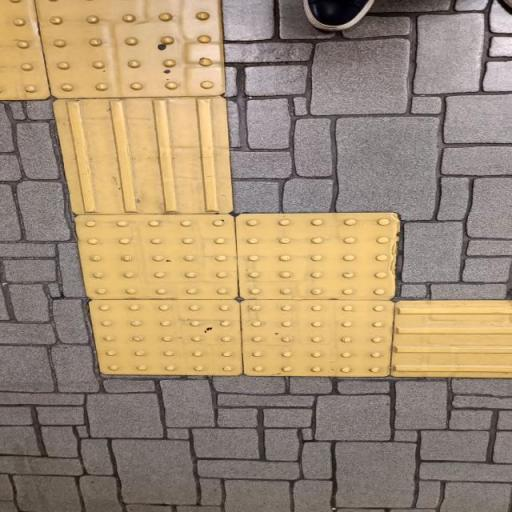dot: (35, 0, 225, 98), (234, 213, 395, 299), (74, 214, 237, 297), (88, 301, 242, 375), (245, 302, 394, 376)
line: (54, 97, 232, 216), (389, 301, 511, 380)
